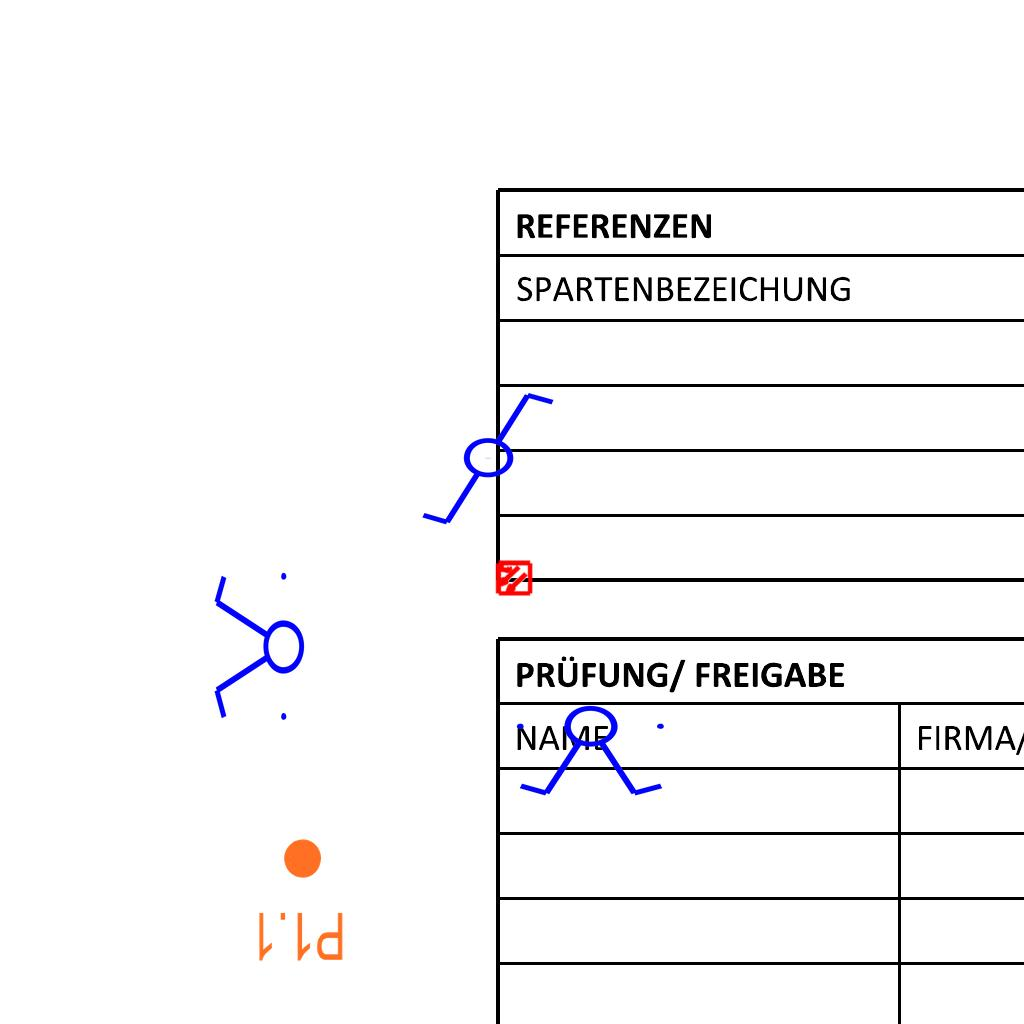Downlight_LED_Einbauleuchten_Flur: (253, 836, 346, 964)
OT_Multisensormelder_(Kombination_RMO_WMD): (485, 550, 541, 606)
Serienschalter: (508, 704, 676, 800), (210, 564, 306, 732)
Wechselschalter: (418, 388, 575, 532)
